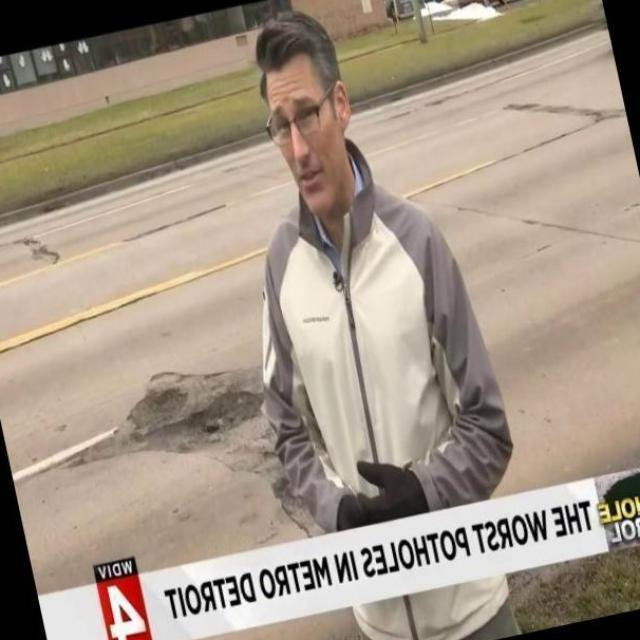Pathole: (77, 369, 259, 468)
